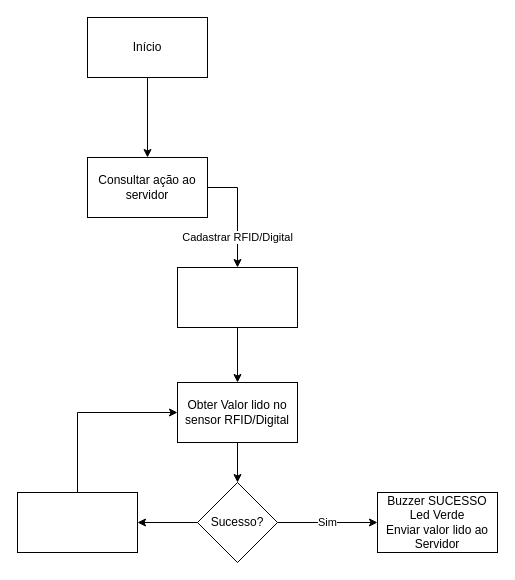
The diagram is 515 pixels wide and 580 high, and some of its shapes have lost their labels. Here are the shapes that lost their labels. From the top down, the centre of each, then its label:
the point at 237,297: Sinalizar ação no LCD
the point at 77,522: Buzzer ERRO Led Vermelho
